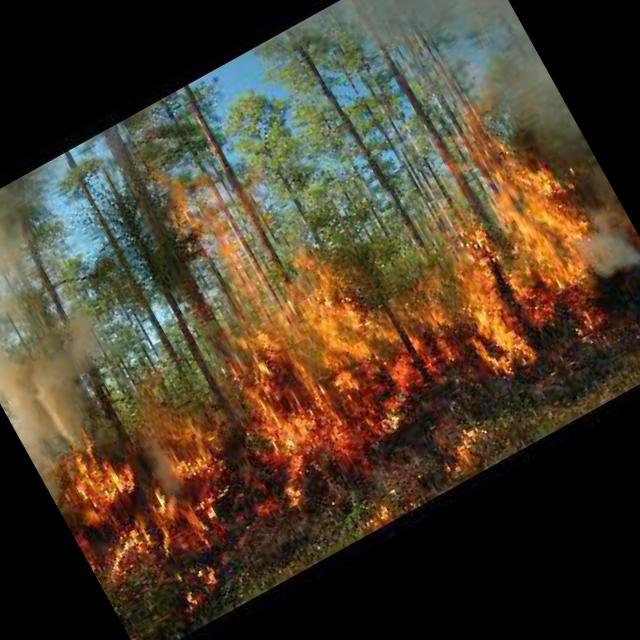fire: (1, 114, 632, 598)
smoke: (404, 0, 640, 316), (0, 174, 166, 504)
